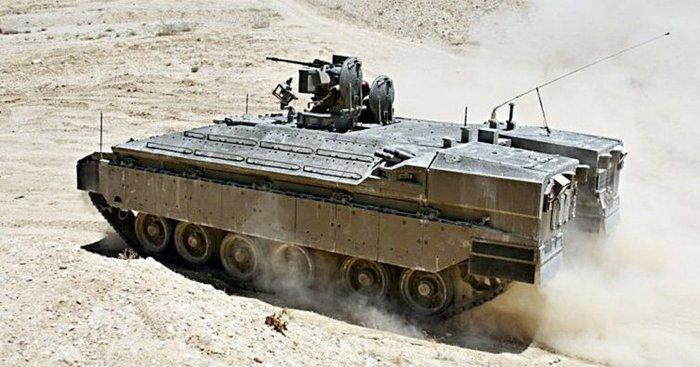MIL_IFV: (76, 53, 626, 329)
